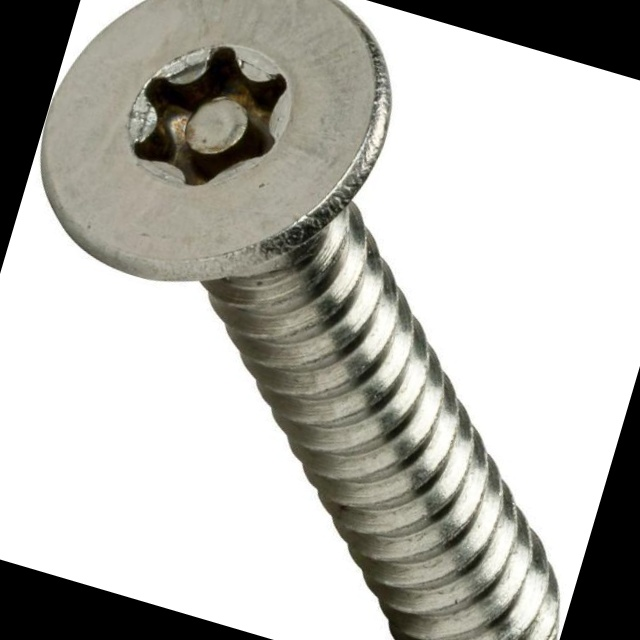torx: (13, 0, 422, 334)
